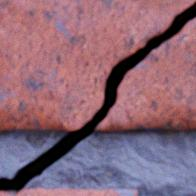brick: (189, 192, 195, 195)
broken_brick: (0, 0, 195, 131), (95, 19, 195, 130), (0, 188, 136, 195)
crack: (0, 2, 195, 194)
